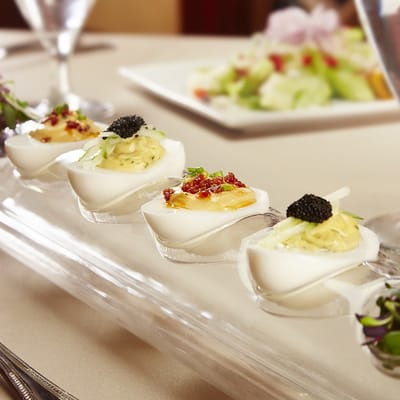sushi: (3, 107, 103, 179)
